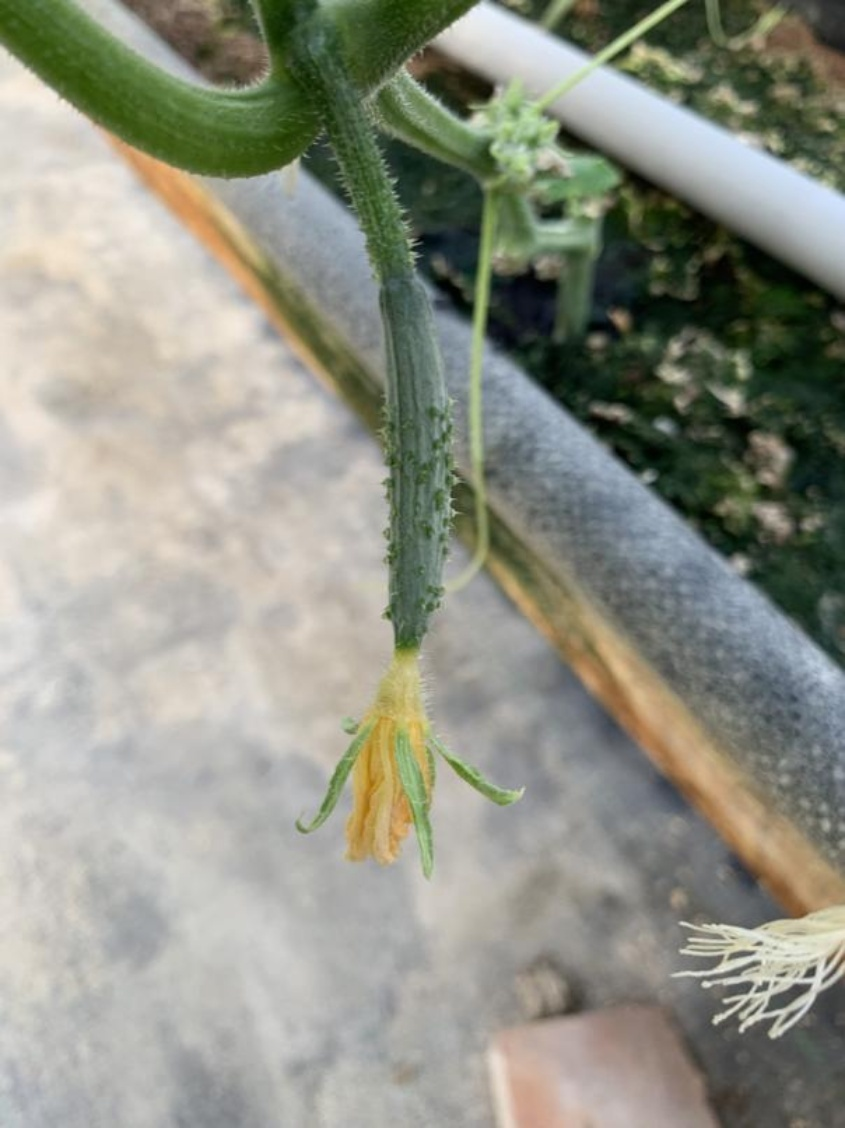bear: (255, 241, 524, 911)
